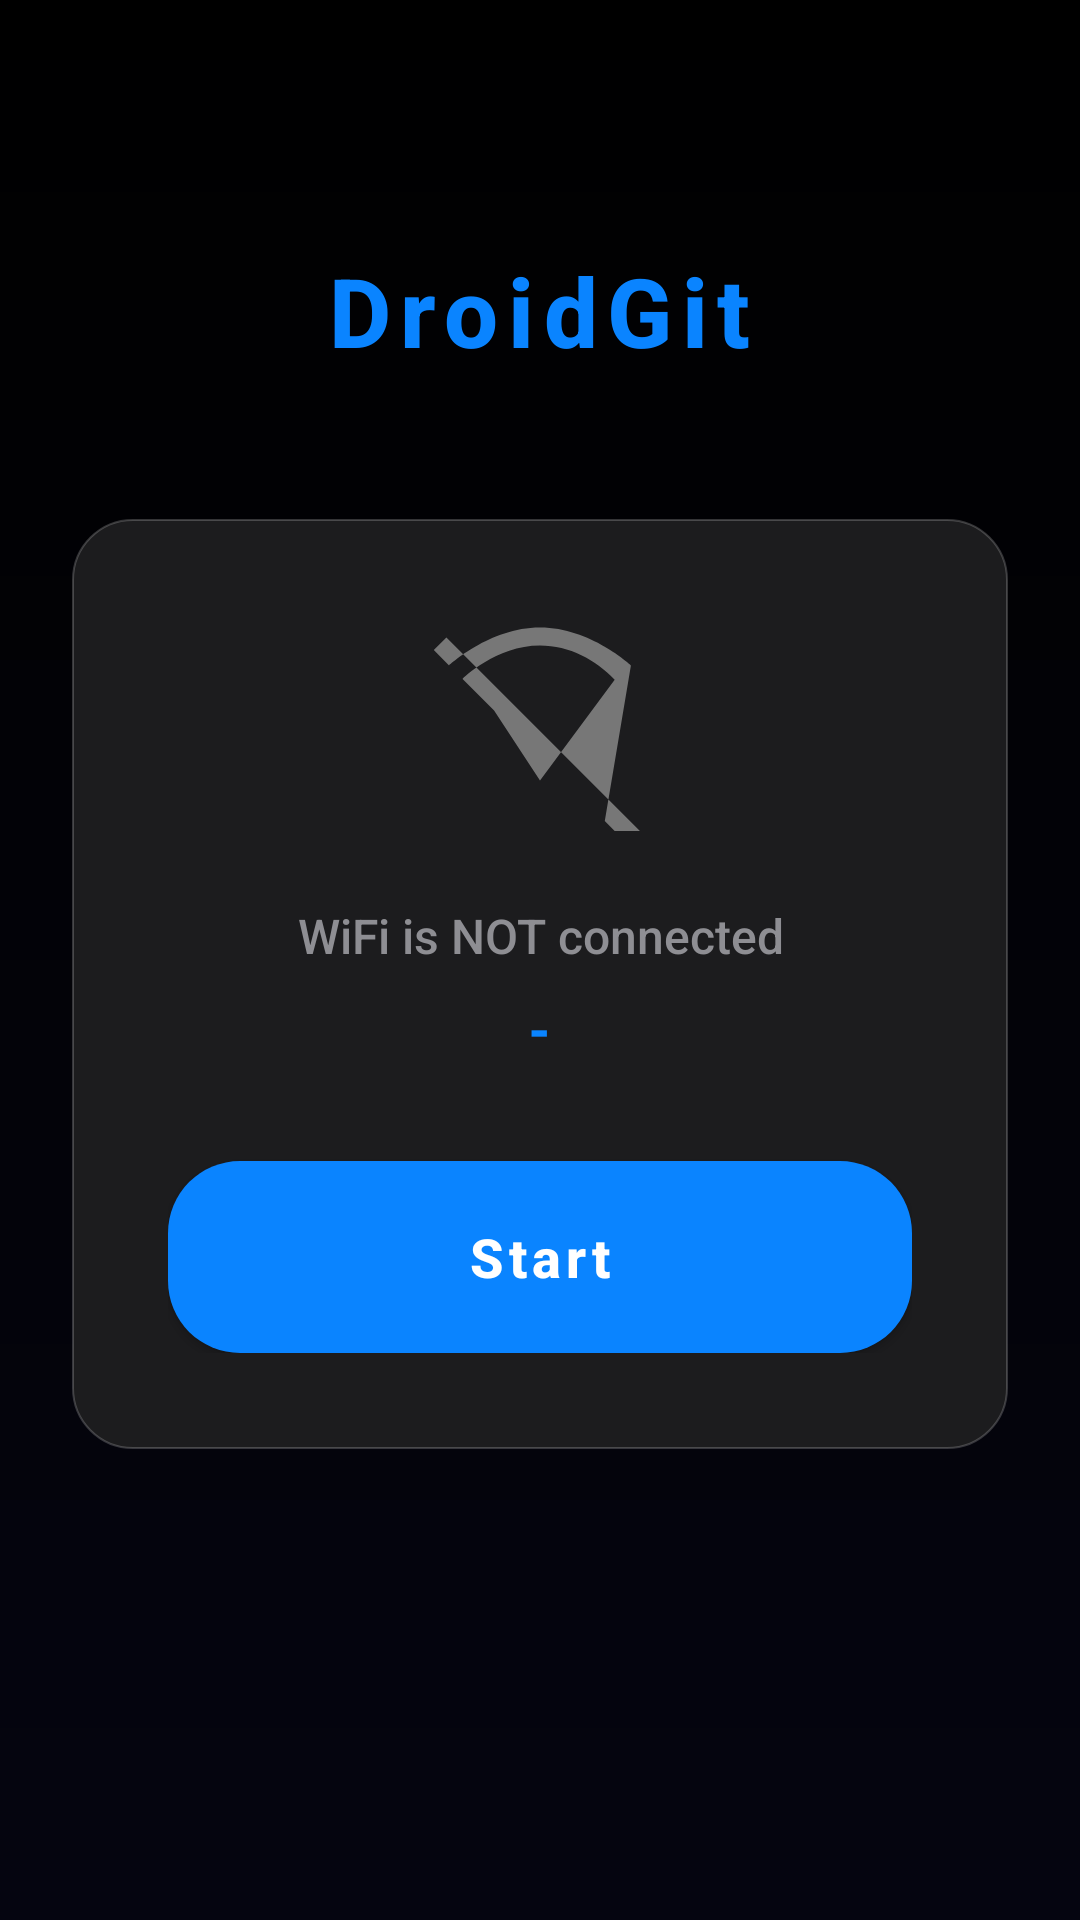

Named icons in this screenshot (1080 x 1920) and their bounding boxes, (x1, y1, x2, y2):
wireless: (434, 627, 640, 831)
